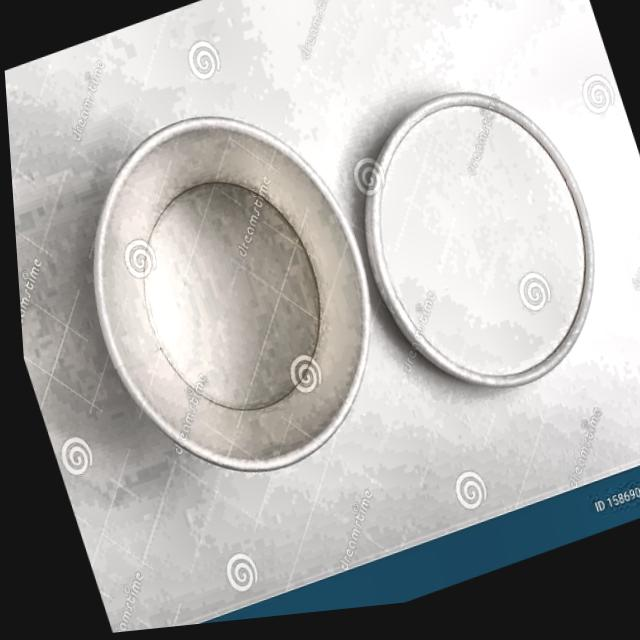Cup: (39, 68, 422, 543)
